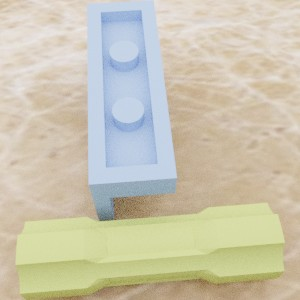lego: (15, 202, 284, 299), (86, 0, 177, 221)
